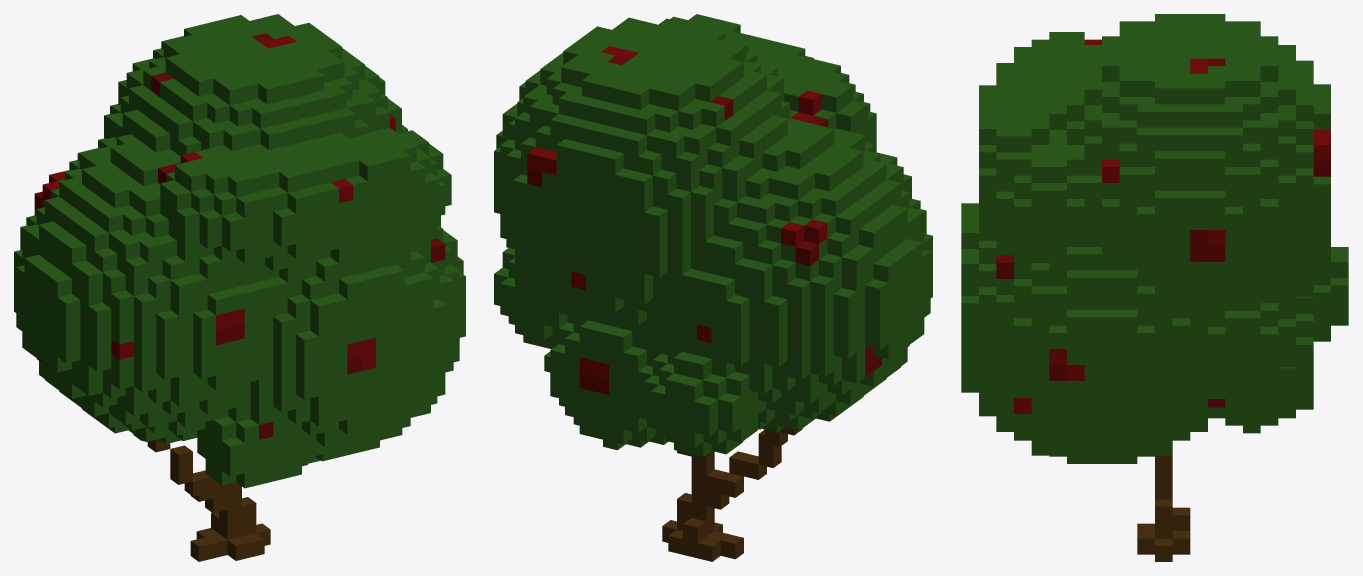
File: bush1.obj
The picture shows the model from 3 angles, left to right: view 1: azimuth 30°, elevation 25°; view 2: azimuth 150°, elevation 25°; view 3: azimuth 270°, elevation 25°; orthographic projection. The views are drawn at different scales.
Bounding box in the file's own units: 2.6 × 3.2 × 2.2.
1 material, 1 textured.
